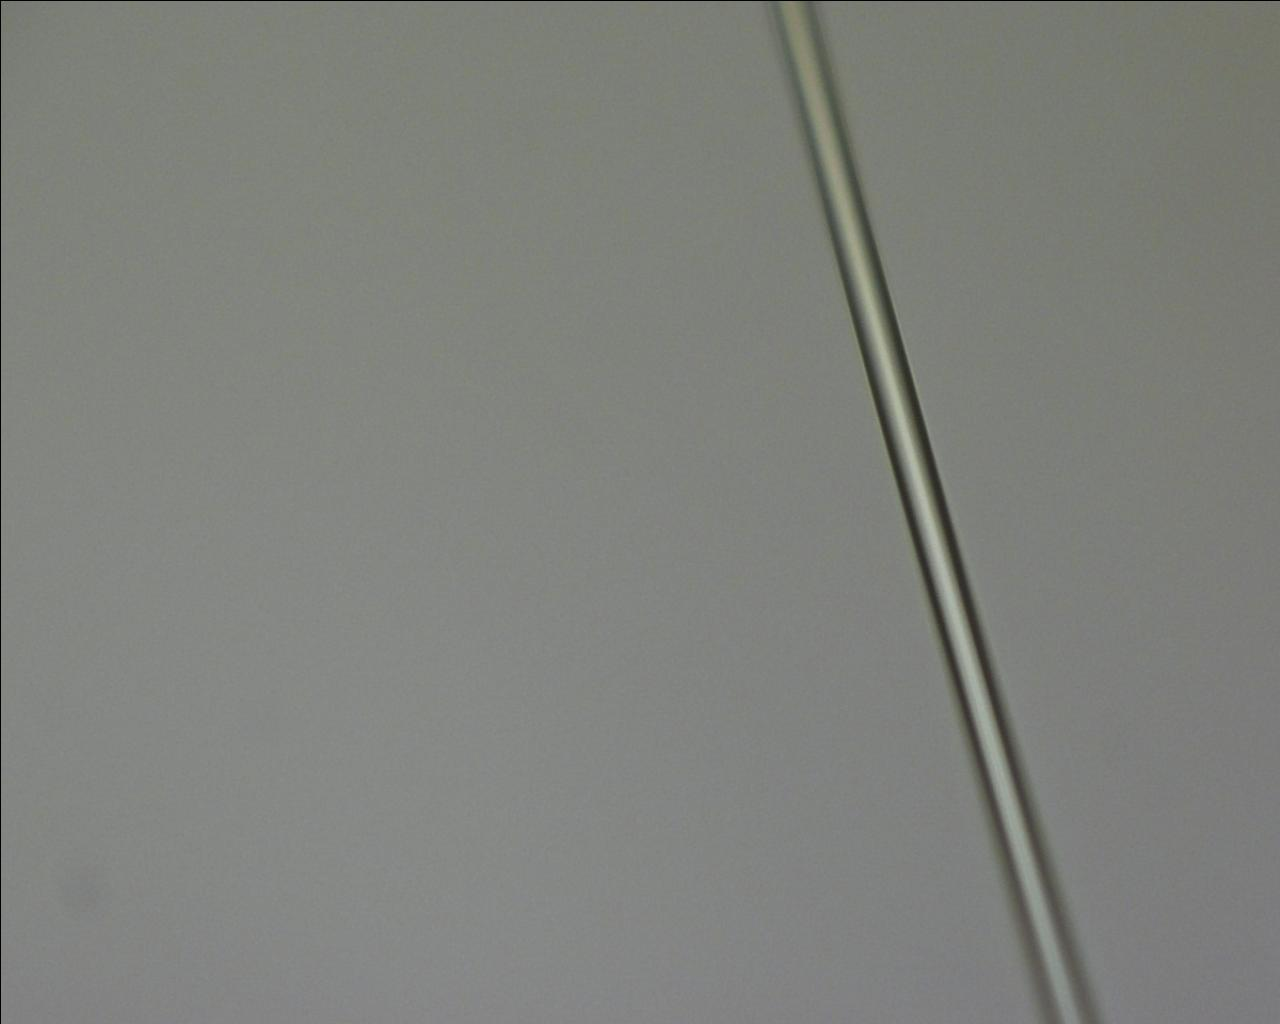fiber: (0, 811, 877, 996), (489, 0, 569, 594)
